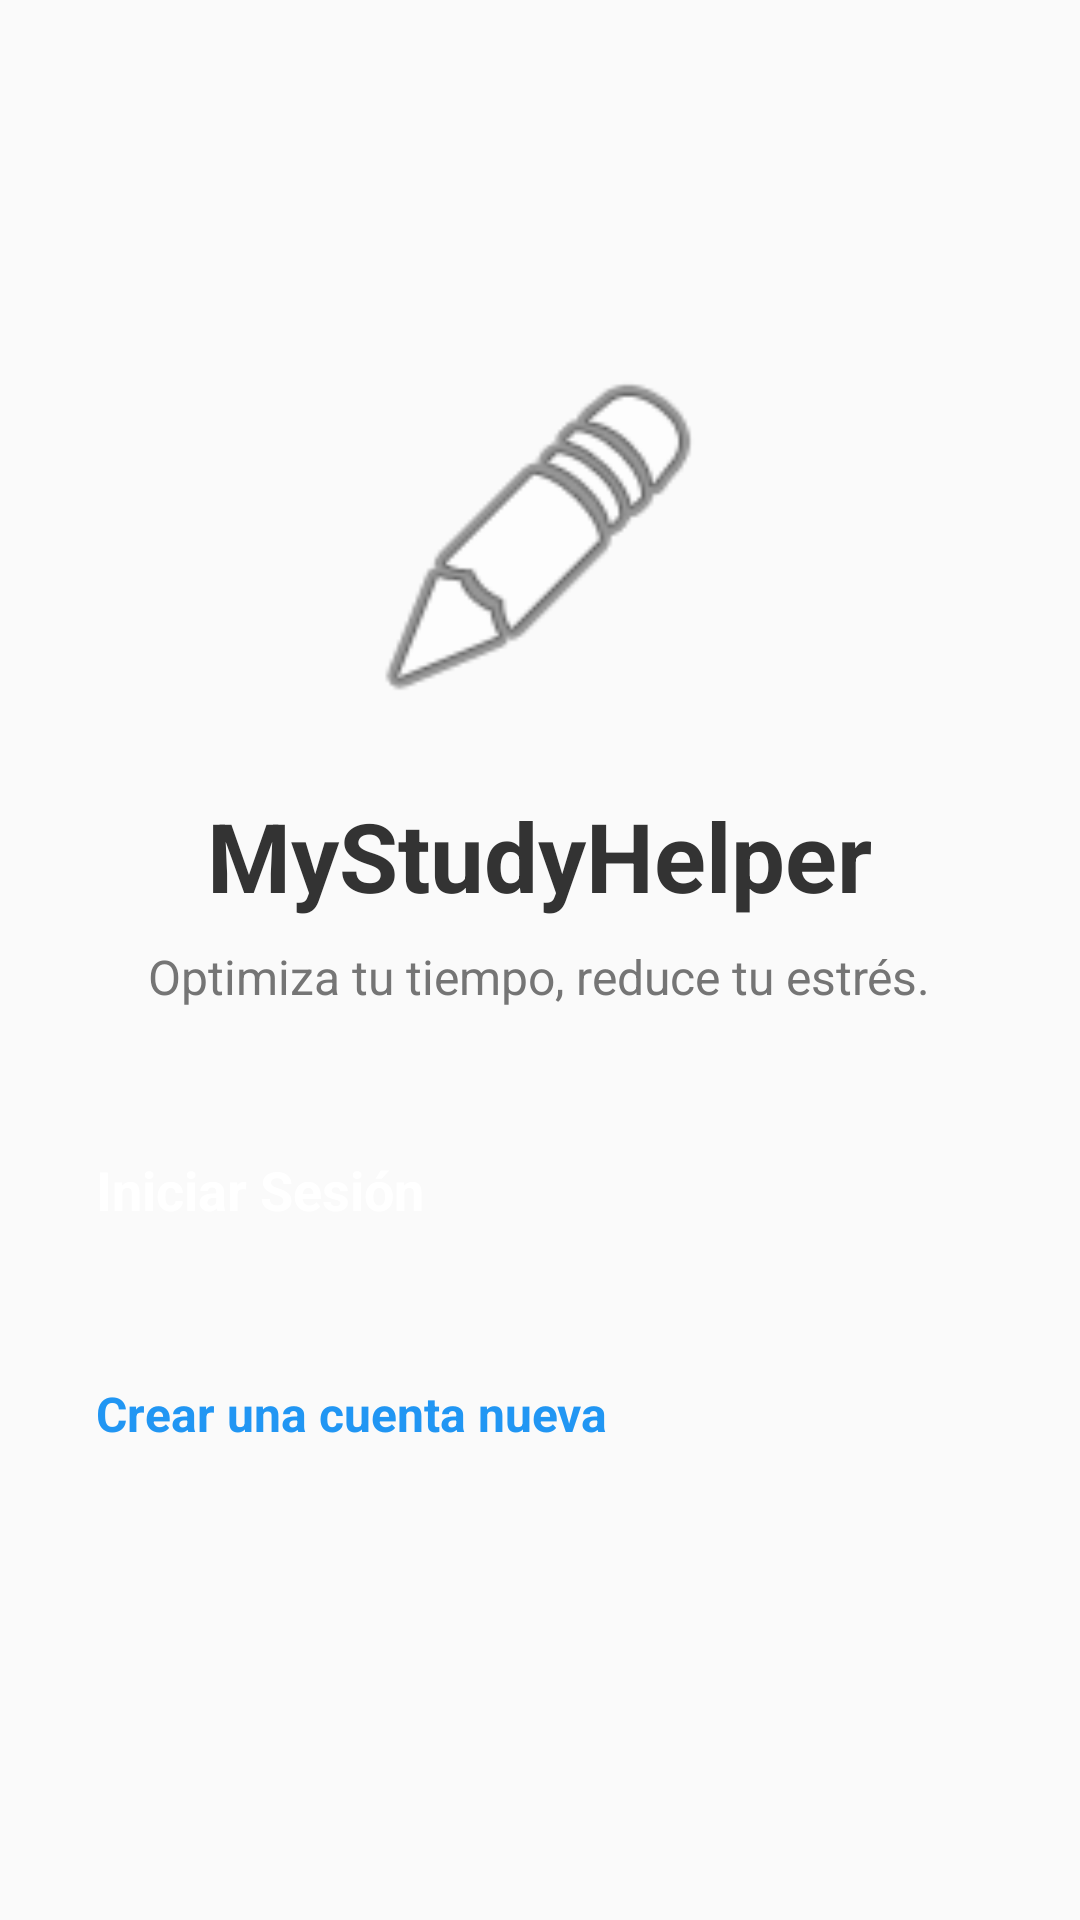

Point at icon controls on the screen. Image size 1080 × 1920, points as point (x, y).
edit: point (538, 536)
